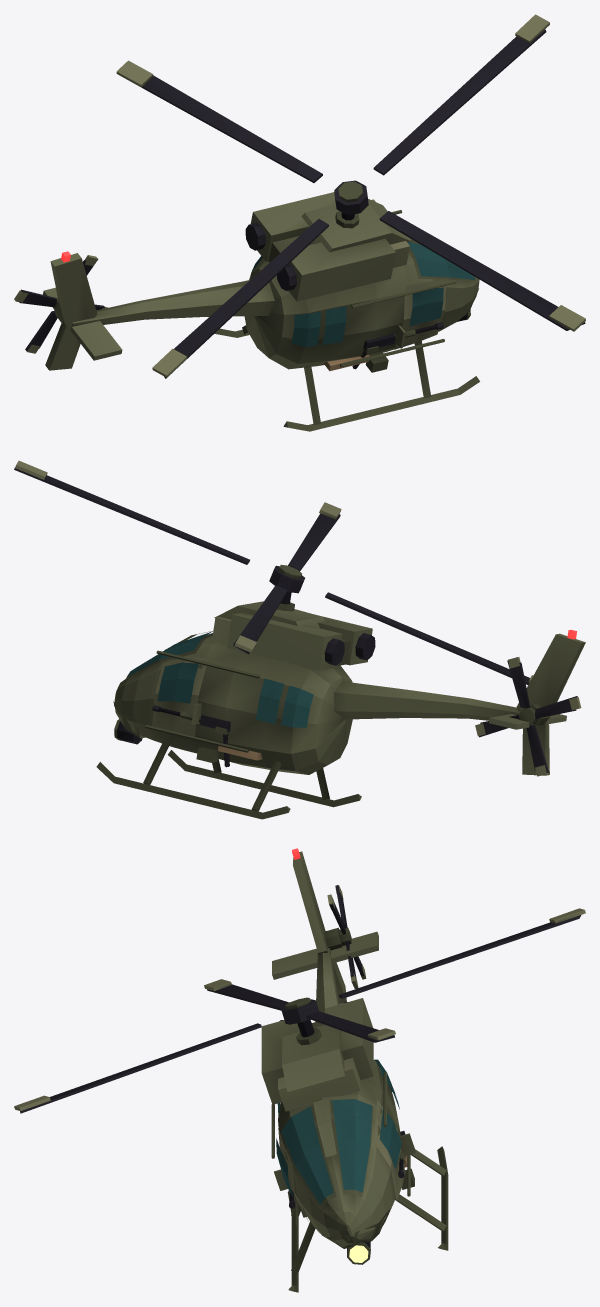
The picture shows the model from 3 angles, top to bottom: view 1: azimuth 30°, elevation 25°; view 2: azimuth 150°, elevation 25°; view 3: azimuth 270°, elevation 25°; orthographic projection. The views are drawn at different scales.
Visible parts, largest first — view 1: body_pal_picketWhite, mainRotor_pal_picketWhite, tailRotor_pal_picketWhite, doorGunR_pal_picketWhite; view 2: body_pal_picketWhite, mainRotor_pal_picketWhite, tailRotor_pal_picketWhite, doorGun_pal_picketWhite; view 3: body_pal_picketWhite, mainRotor_pal_picketWhite, tailRotor_pal_picketWhite.
Boxes of the visible parts, x1,y1,x2,y2 form: body_pal_picketWhite: (43, 192, 479, 431); mainRotor_pal_picketWhite: (116, 14, 585, 378); tailRotor_pal_picketWhite: (14, 255, 107, 353); doorGunR_pal_picketWhite: (363, 322, 443, 353); body_pal_picketWhite: (96, 591, 585, 819); mainRotor_pal_picketWhite: (14, 460, 533, 684); tailRotor_pal_picketWhite: (475, 657, 581, 776); doorGun_pal_picketWhite: (152, 703, 230, 734); body_pal_picketWhite: (261, 851, 448, 1292); mainRotor_pal_picketWhite: (14, 908, 585, 1113); tailRotor_pal_picketWhite: (327, 885, 366, 988).
Size of the model in its own units: 10.96 by 5.95 by 9.5.
